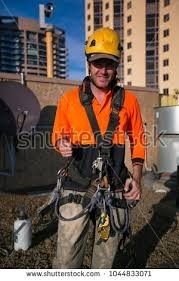helmet: (83, 26, 123, 64)
person with partial safety: (53, 24, 145, 270)
